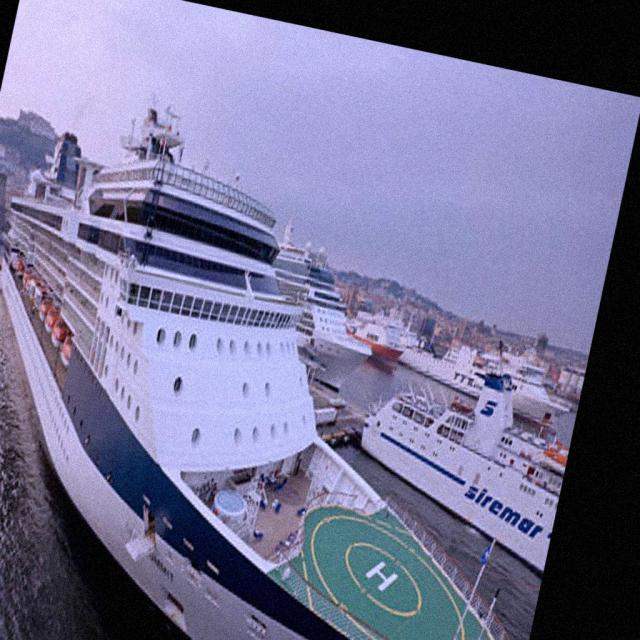helipad: (342, 538, 427, 620)
